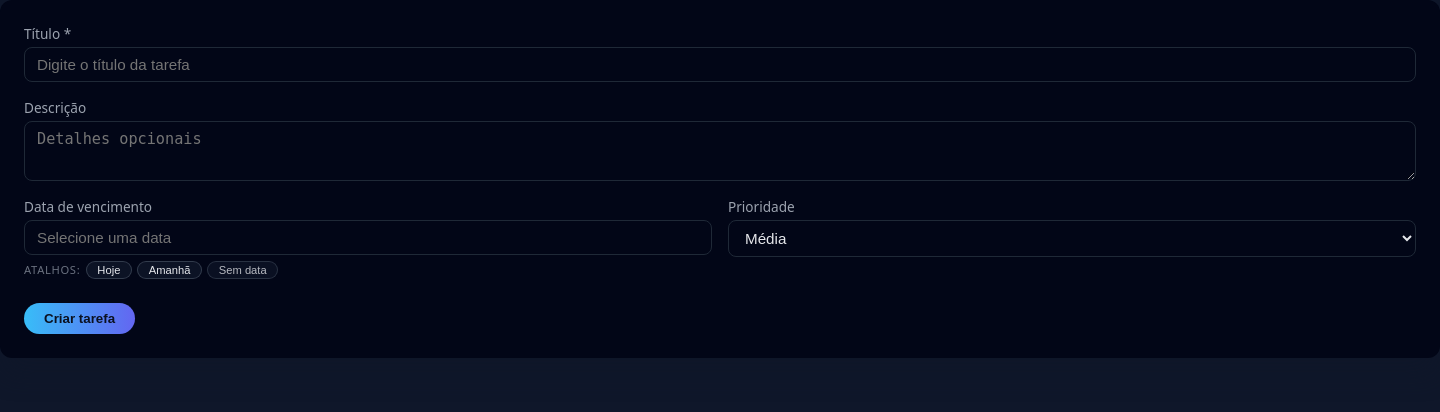
Test case: NewTaskForm › exibe mensagem de erro quando tenta criar sem título
Click the button "Criar tarefa" at (80, 319), box x1=24 y1=303 x2=135 y2=334
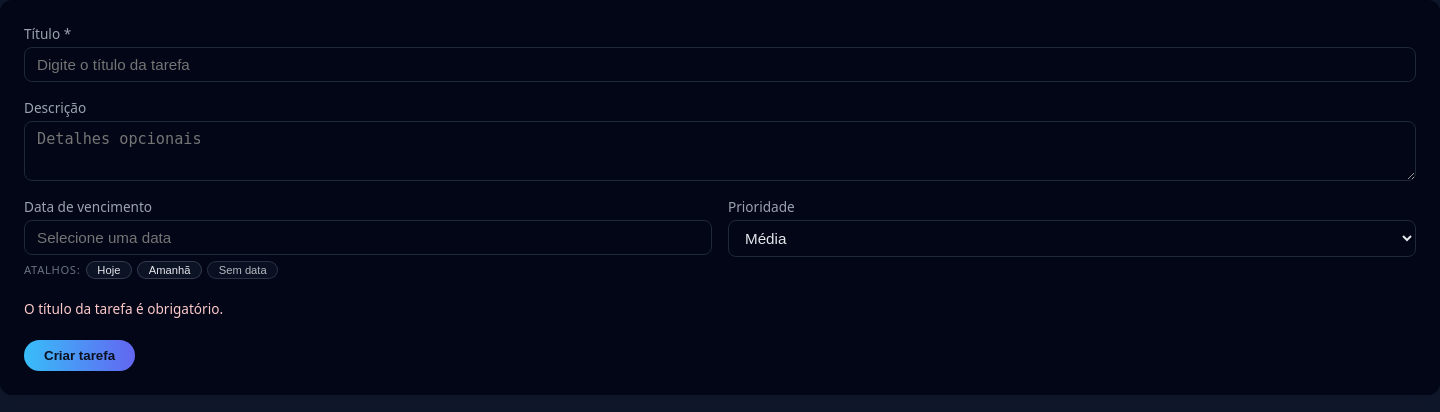
Expected: the text "O título da tarefa é obrigatório." is shown, x1=24 y1=299 x2=223 y2=318
